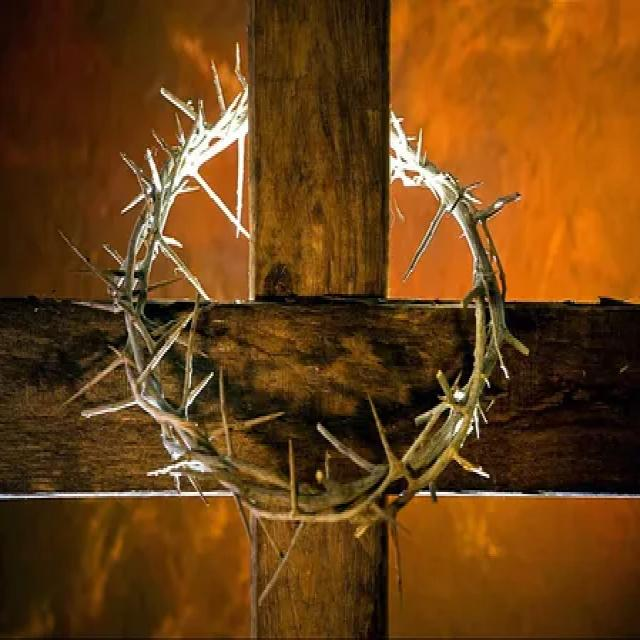crown: (108, 60, 518, 546)
